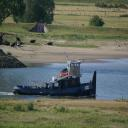tugboat: (12, 60, 98, 99)
